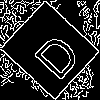D: (25, 25, 84, 83)
